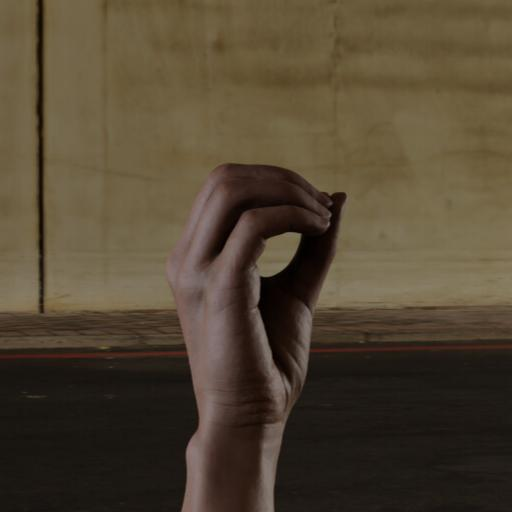O: (160, 160, 352, 414)
